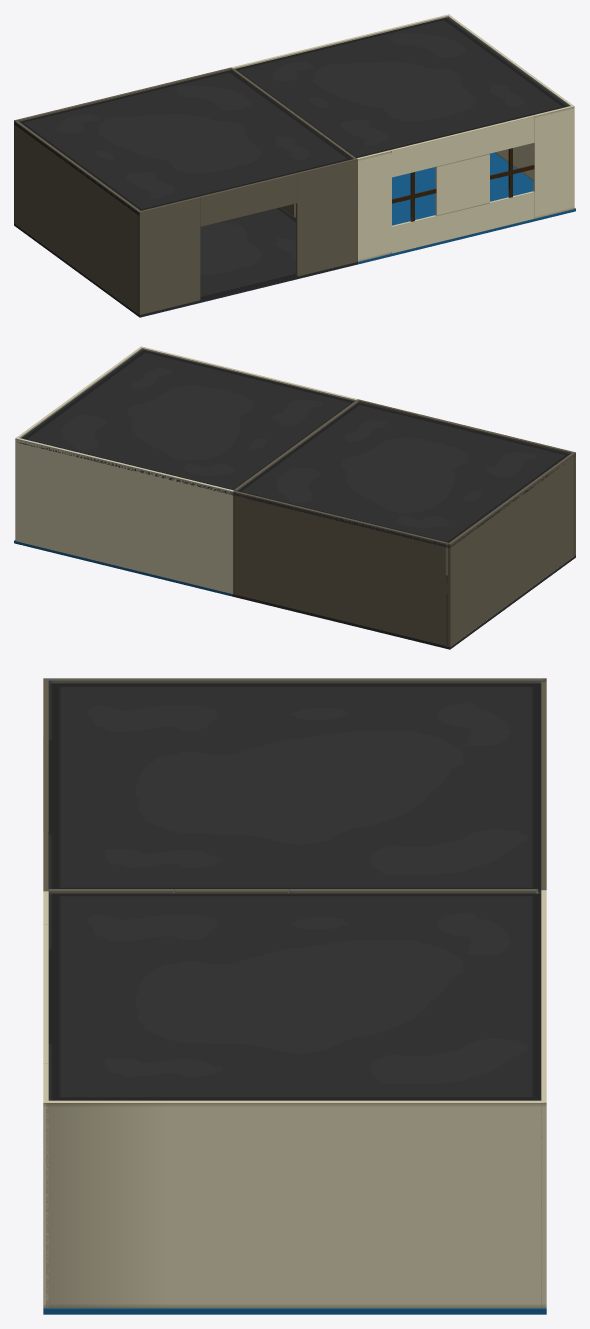
Rendered from House.fbx.
3 renders of one model, top to bottom at view 1: azimuth 30°, elevation 25°; view 2: azimuth 150°, elevation 25°; view 3: azimuth 270°, elevation 25°, orthographic. The views are drawn at different scales.
Visible parts, largest first — view 1: cube_1, cube_23, cube_6, cube, cube_2, cube_3, cube_17, cube_18, cube_15, cube_12, cube_13, cube_4 (+5 smaller); view 2: cube_1, cube_23, cube_14, cube_7, cube_6, cube, cube_12, cube_16, cube_18, cube_2; view 3: cube_16, cube_23, cube_1, cube_12, cube_6, cube_14, cube_7, cube_10, cube_17, cube_18.
Boxes of the visible parts, <box> form: cube_1: <box>14,70,352,215</box>; cube_23: <box>235,17,568,158</box>; cube_6: <box>14,120,140,313</box>; cube: <box>14,207,357,317</box>; cube_2: <box>138,197,200,314</box>; cube_3: <box>296,158,357,276</box>; cube_17: <box>533,106,574,218</box>; cube_18: <box>391,115,534,177</box>; cube_15: <box>392,191,534,253</box>; cube_12: <box>358,152,575,264</box>; cube_13: <box>357,150,391,261</box>; cube_4: <box>199,173,297,226</box>; cube_1: <box>232,402,575,547</box>; cube_23: <box>17,349,357,495</box>; cube_14: <box>15,437,234,593</box>; cube_7: <box>233,490,448,646</box>; cube_6: <box>447,453,574,646</box>; cube: <box>232,555,575,649</box>; cube_12: <box>14,540,231,596</box>; cube_16: <box>16,347,142,438</box>; cube_18: <box>179,356,323,392</box>; cube_2: <box>514,437,575,555</box>; cube_16: <box>46,1100,543,1308</box>; cube_23: <box>48,893,541,1100</box>; cube_1: <box>48,683,541,893</box>; cube_12: <box>43,1308,546,1314</box>; cube_6: <box>48,678,546,683</box>; cube_14: <box>541,890,546,1308</box>; cube_7: <box>541,680,546,889</box>; cube_10: <box>289,889,538,893</box>; cube_17: <box>43,1064,48,1308</box>; cube_18: <box>43,924,48,1063</box>.
Size of the model in its own units: 1125 by 259 by 562.
Materials: 1 (1 with a texture image).
